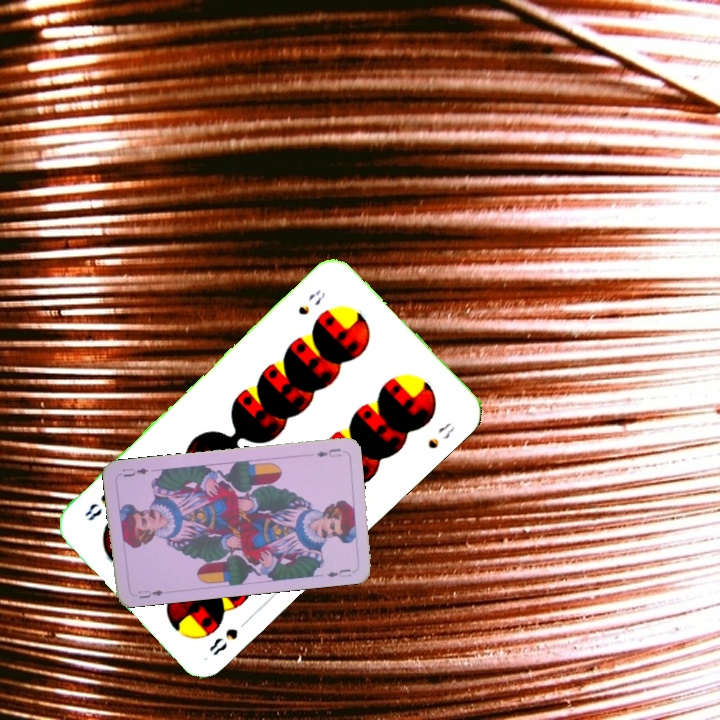EU: (312, 444, 343, 460), (134, 586, 166, 601)
S8: (205, 614, 253, 658), (293, 285, 329, 318)
